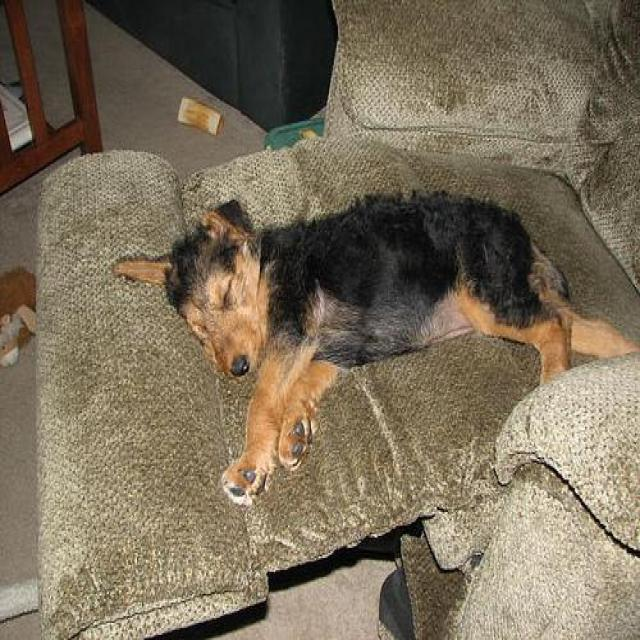airedale: (114, 194, 639, 508)
